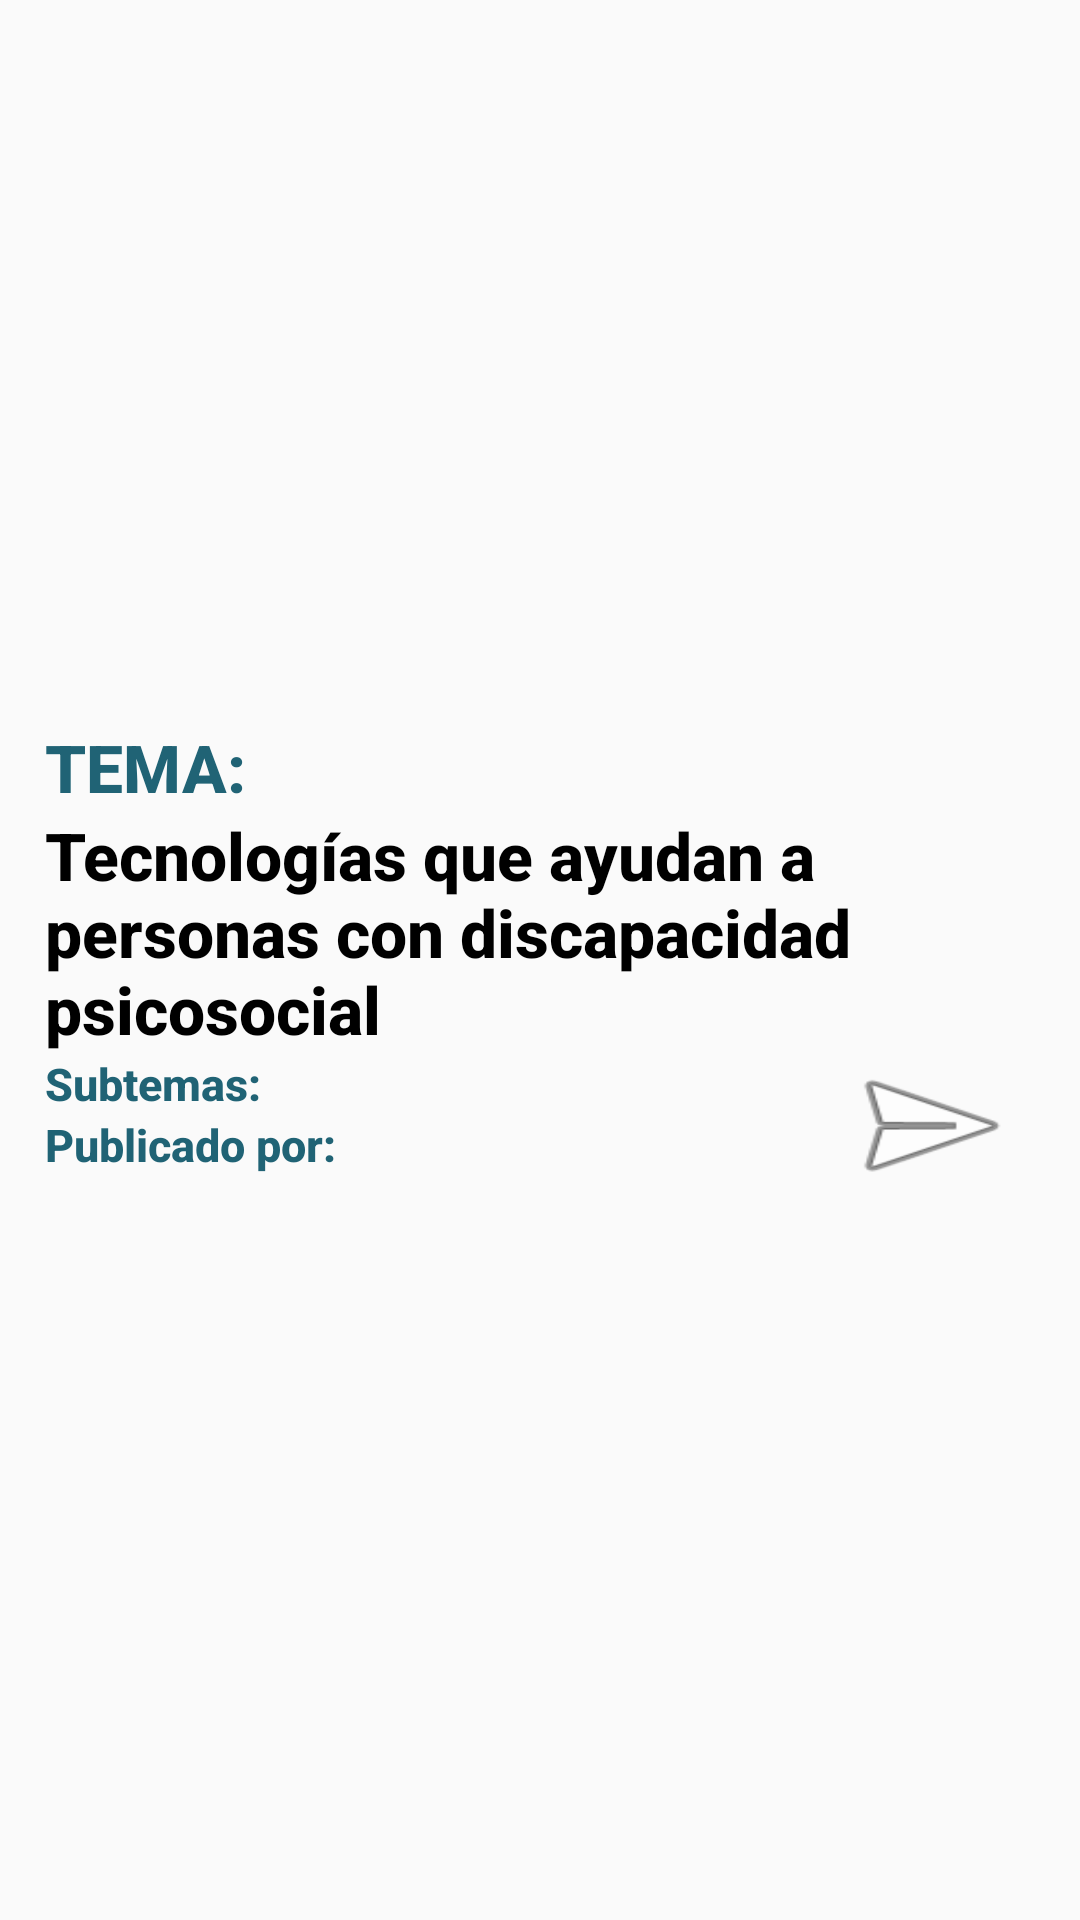

Where icons sit on this 1080px×1920px app screen, as (x1, y1, x2, y2):
send: (864, 1080, 999, 1171)
